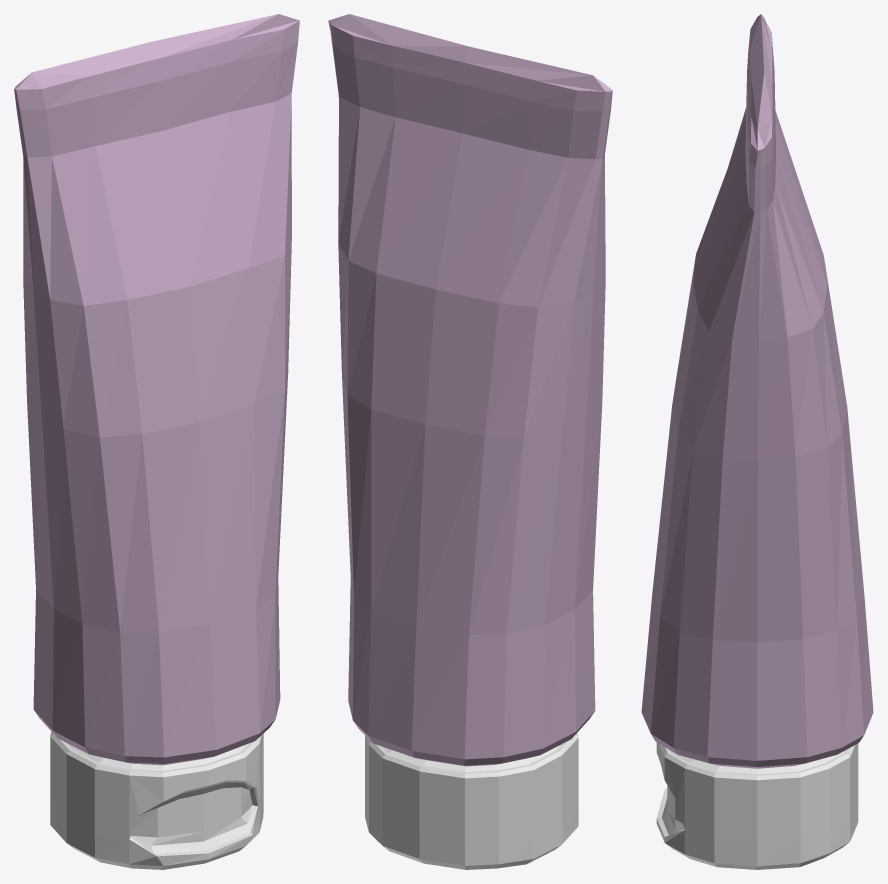
The model's file is acrylic_paint.fbx.
The picture shows the model from 3 angles, left to right: view 1: azimuth 30°, elevation 25°; view 2: azimuth 150°, elevation 25°; view 3: azimuth 270°, elevation 25°; orthographic projection. The views are drawn at different scales.
Parts seen in each view (by area): view 1: Multiverse_Academy_platform_models:acrylic_paint_model; view 2: Multiverse_Academy_platform_models:acrylic_paint_model; view 3: Multiverse_Academy_platform_models:acrylic_paint_model.
Part boxes in pixels (x1=…): Multiverse_Academy_platform_models:acrylic_paint_model: x1=14, y1=14, x2=299, y2=869; Multiverse_Academy_platform_models:acrylic_paint_model: x1=328, y1=14, x2=612, y2=869; Multiverse_Academy_platform_models:acrylic_paint_model: x1=641, y1=14, x2=873, y2=869.
Size of the model in its own units: 15.08 by 39.79 by 11.03.
